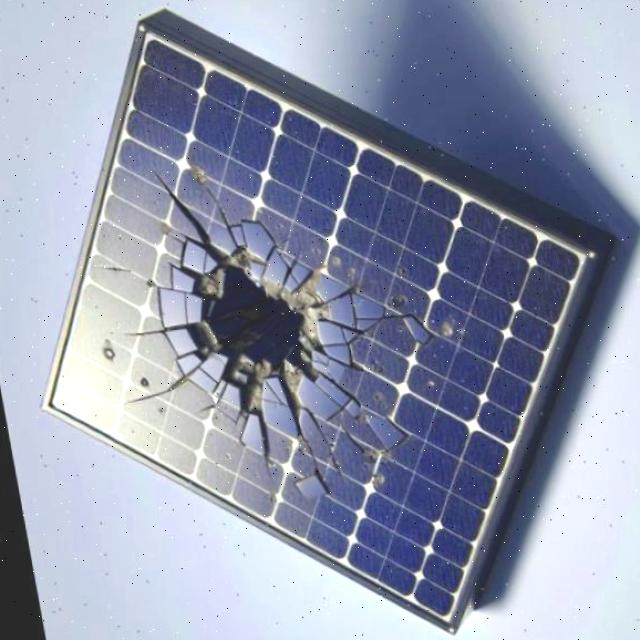Anomaly Solar Panel: (0, 38, 600, 629)
Structural Damage: (105, 191, 457, 523), (141, 161, 209, 248), (114, 364, 204, 421), (298, 410, 344, 491), (198, 185, 229, 231), (117, 330, 161, 344), (91, 269, 128, 278)
